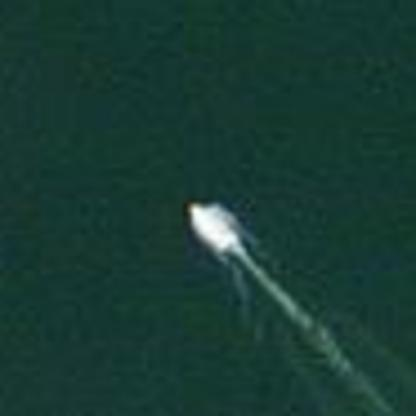ship: (169, 196, 256, 266)
